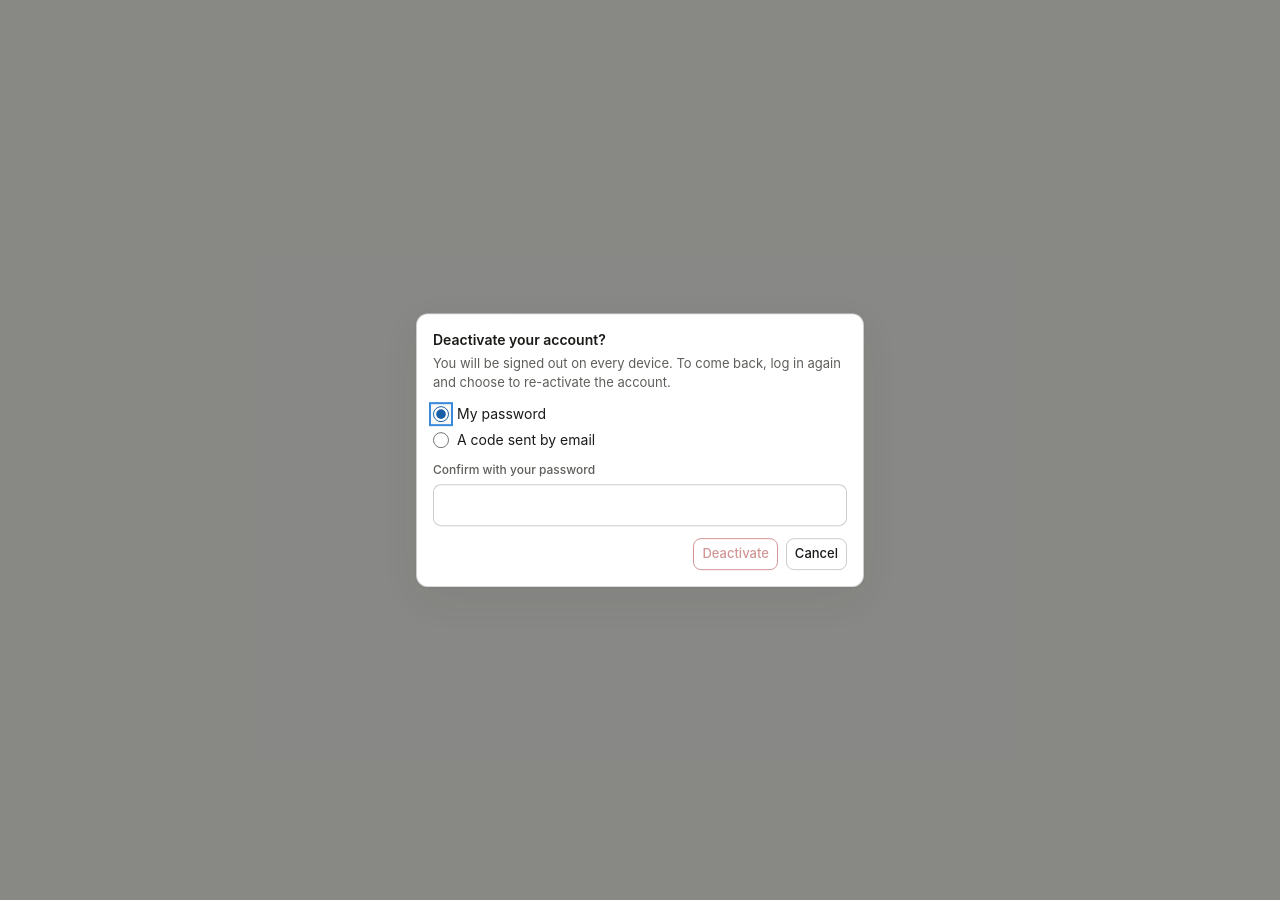
DeactivateAccountDialog › asks for the password and keeps Deactivate disabled until one is typed
Check: the dialog "Deactivate your account?" is shown, box [416,313,864,587]
Check: the button "Deactivate" is disabled, box [693,538,778,570]
Type "password123" into the password field labelled "Confirm with your password" at x=640, y=505, box [433,484,847,526]
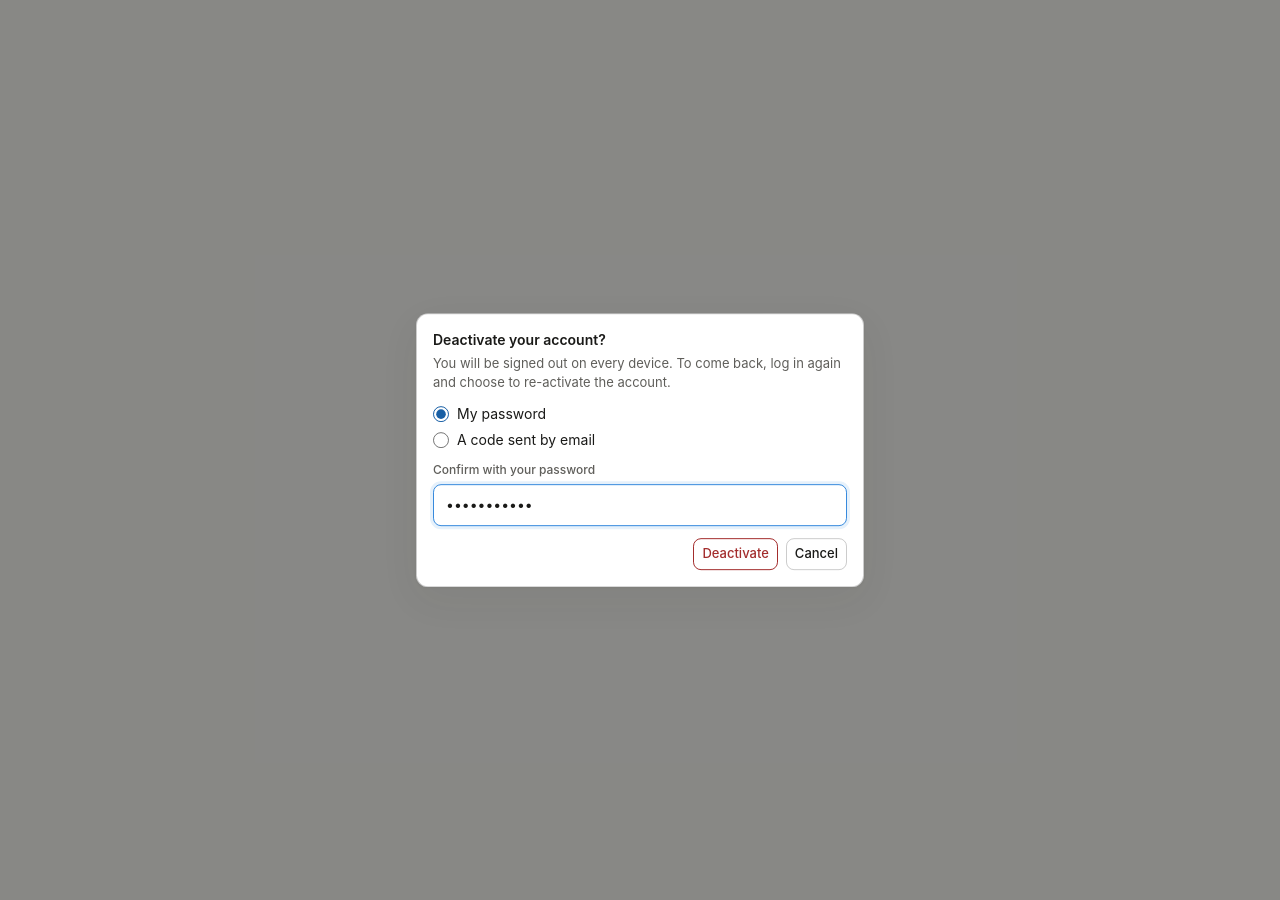
Check: the button "Deactivate" is enabled, box [693,538,778,570]
